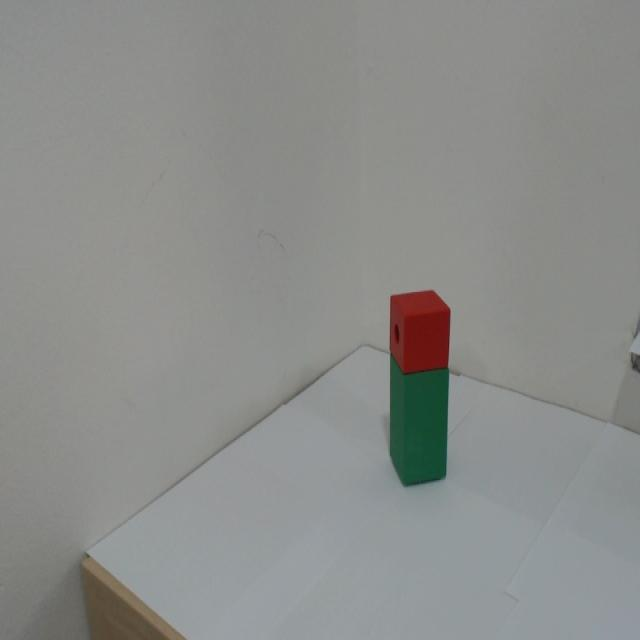cube: (372, 277, 472, 379)
